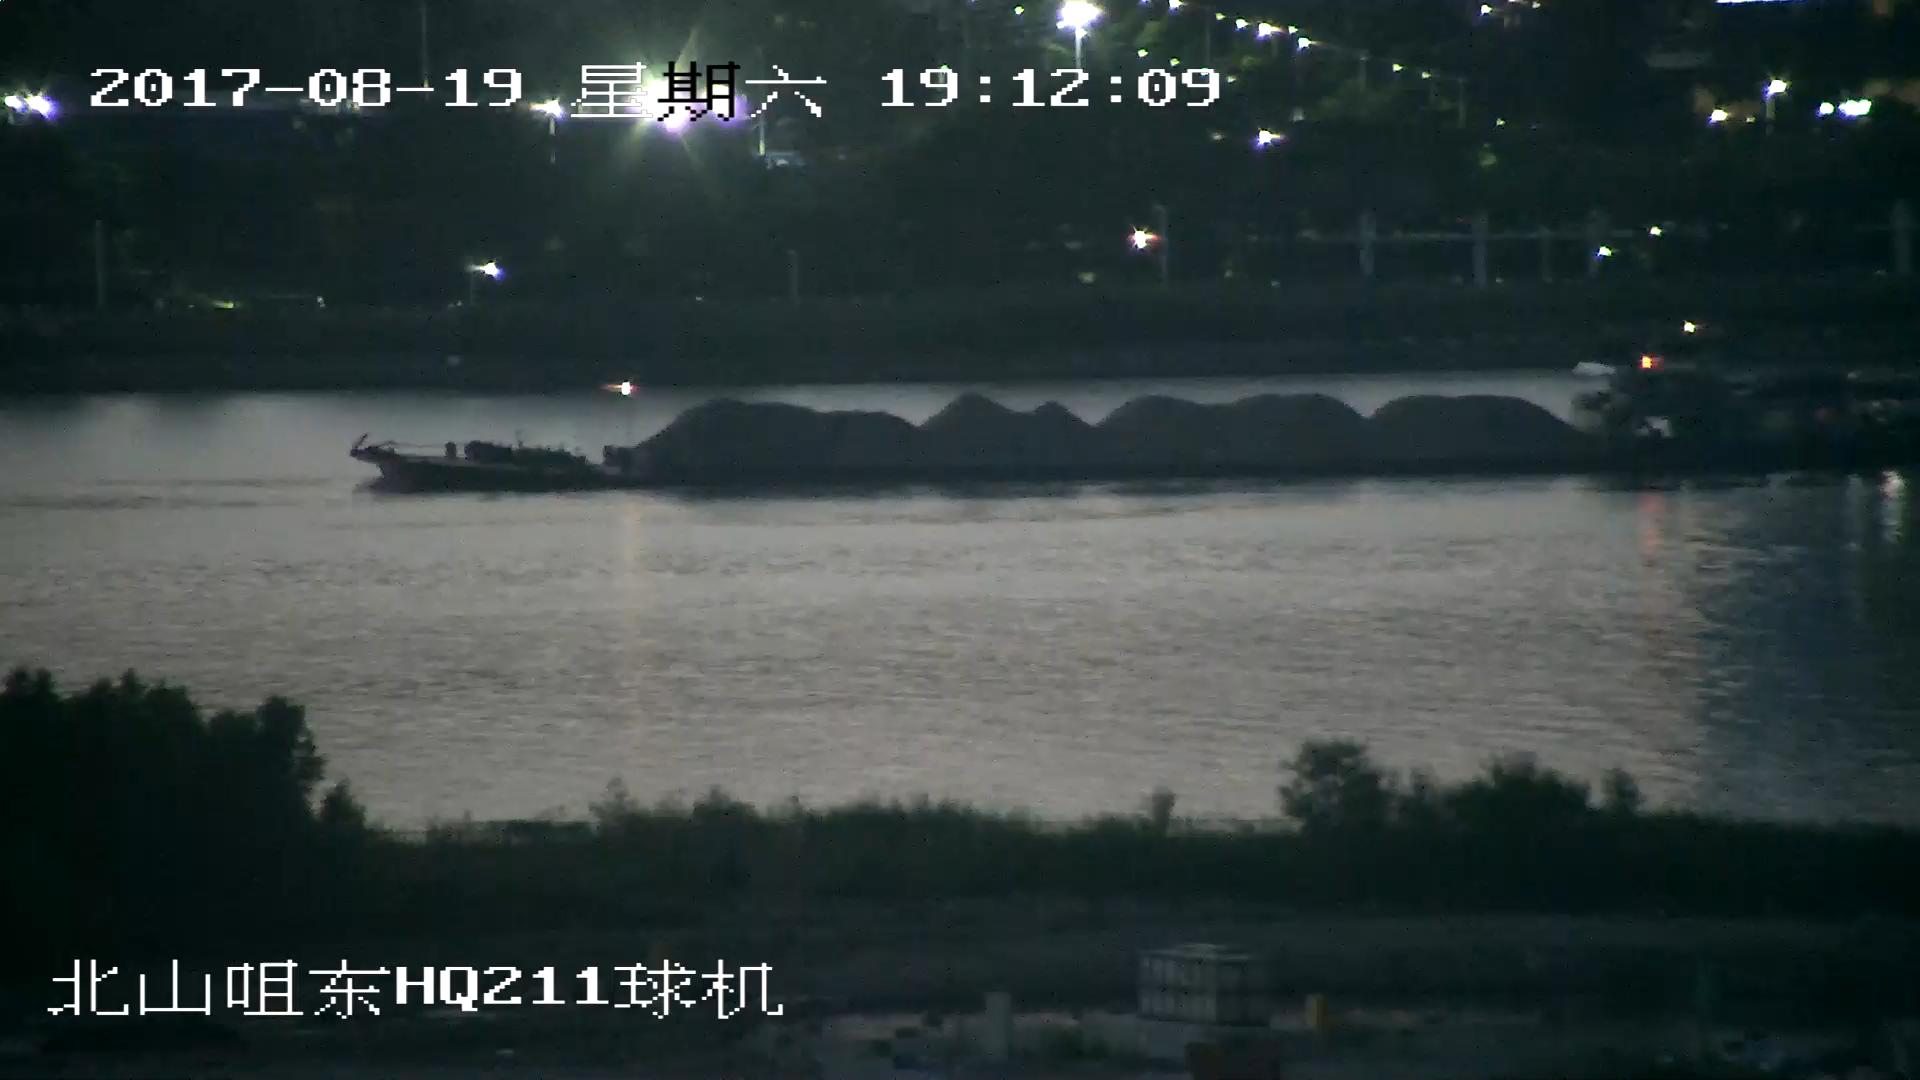ore carrier: (352, 364, 1920, 503)
